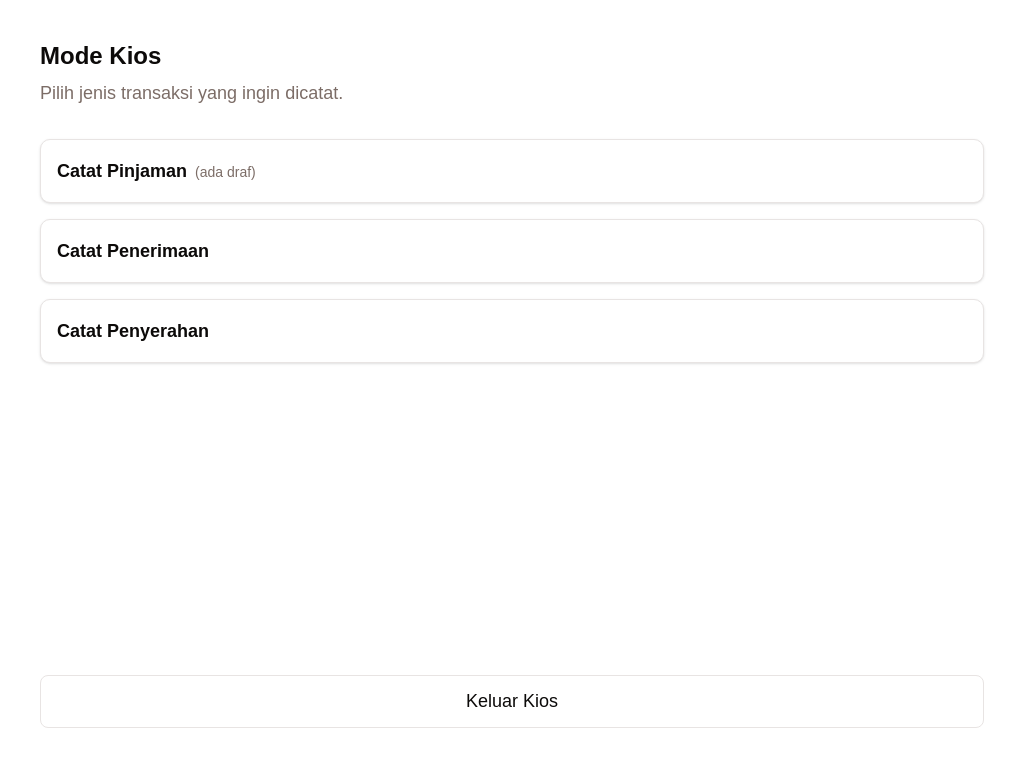
Test case: KioskTypeSelect › resume prompt when draft exists — Requirement 5.6 › shows resume prompt dialog when a loan draft exists and card is tapped
Click the text "Catat Pinjaman": (122,171) [57,161,187,181]
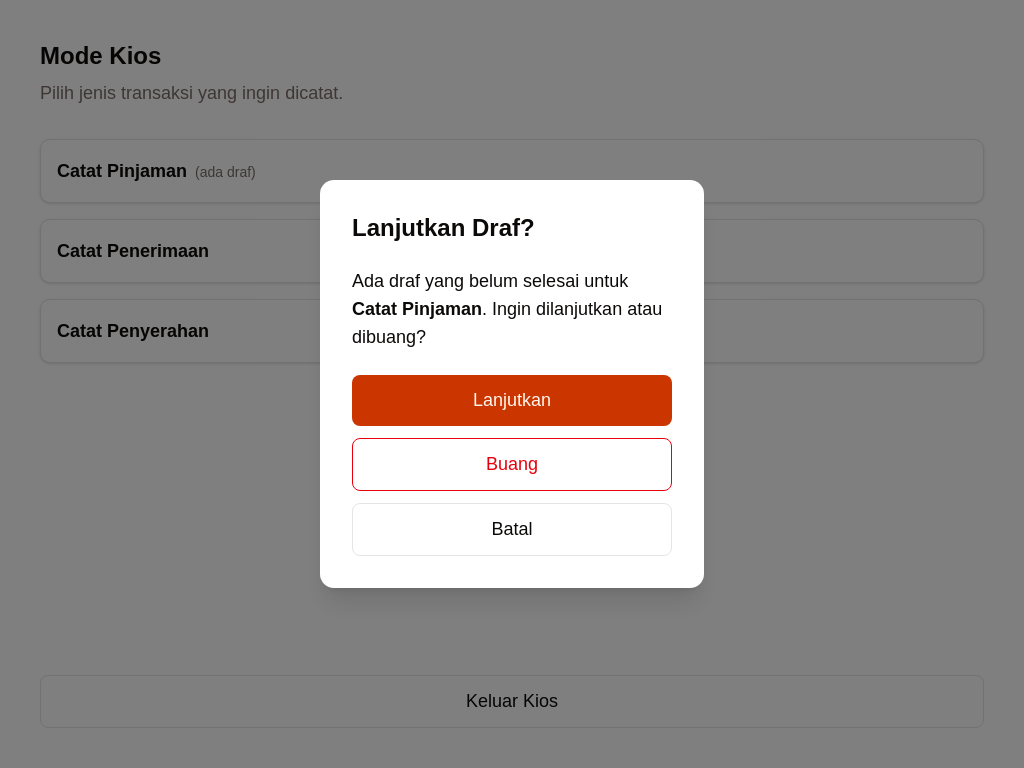
Now the dialog is shown
Now the heading "Lanjutkan Draf?" is shown, box [352,214,535,241]
